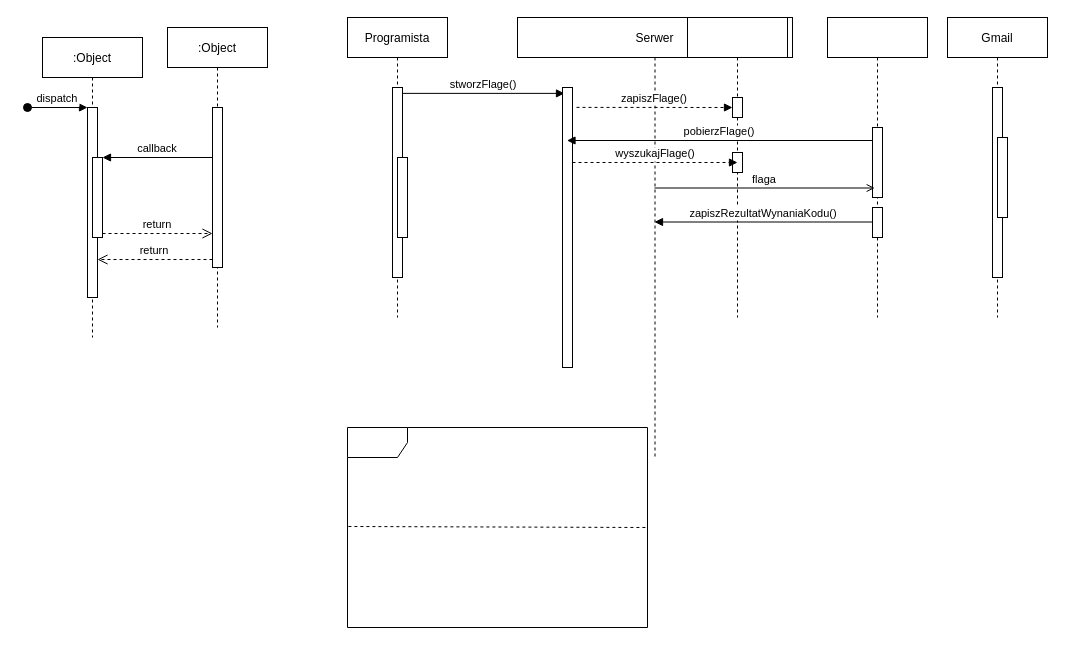
This 1065x645 diagram has some shape labels left out. The centre of each missing label's shape, as x and y in pixels:
alt: point (497, 527)
Klasa Feature: point (877, 167)
PostgreSQL: point (737, 167)
